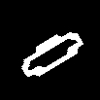chain: (22, 32, 82, 76)
